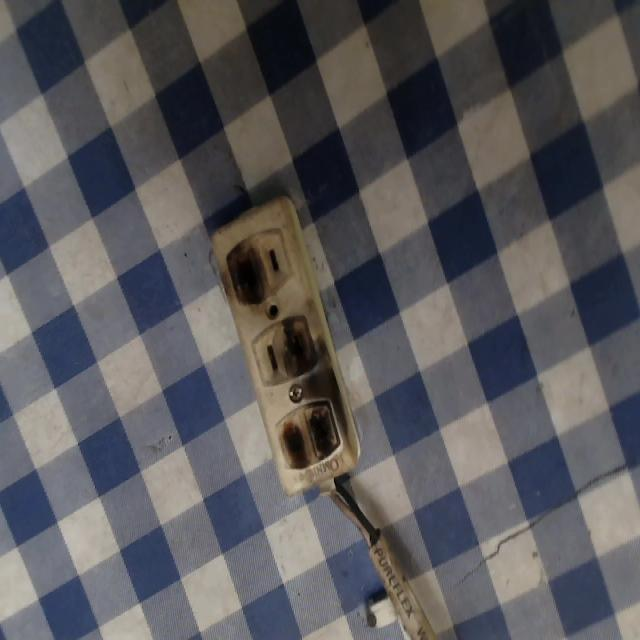-: (264, 397, 351, 472), (222, 232, 272, 316), (276, 311, 323, 378)
